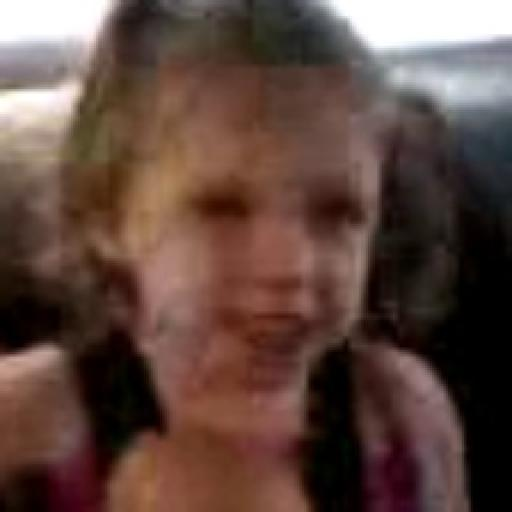Autism: (102, 26, 405, 432)
